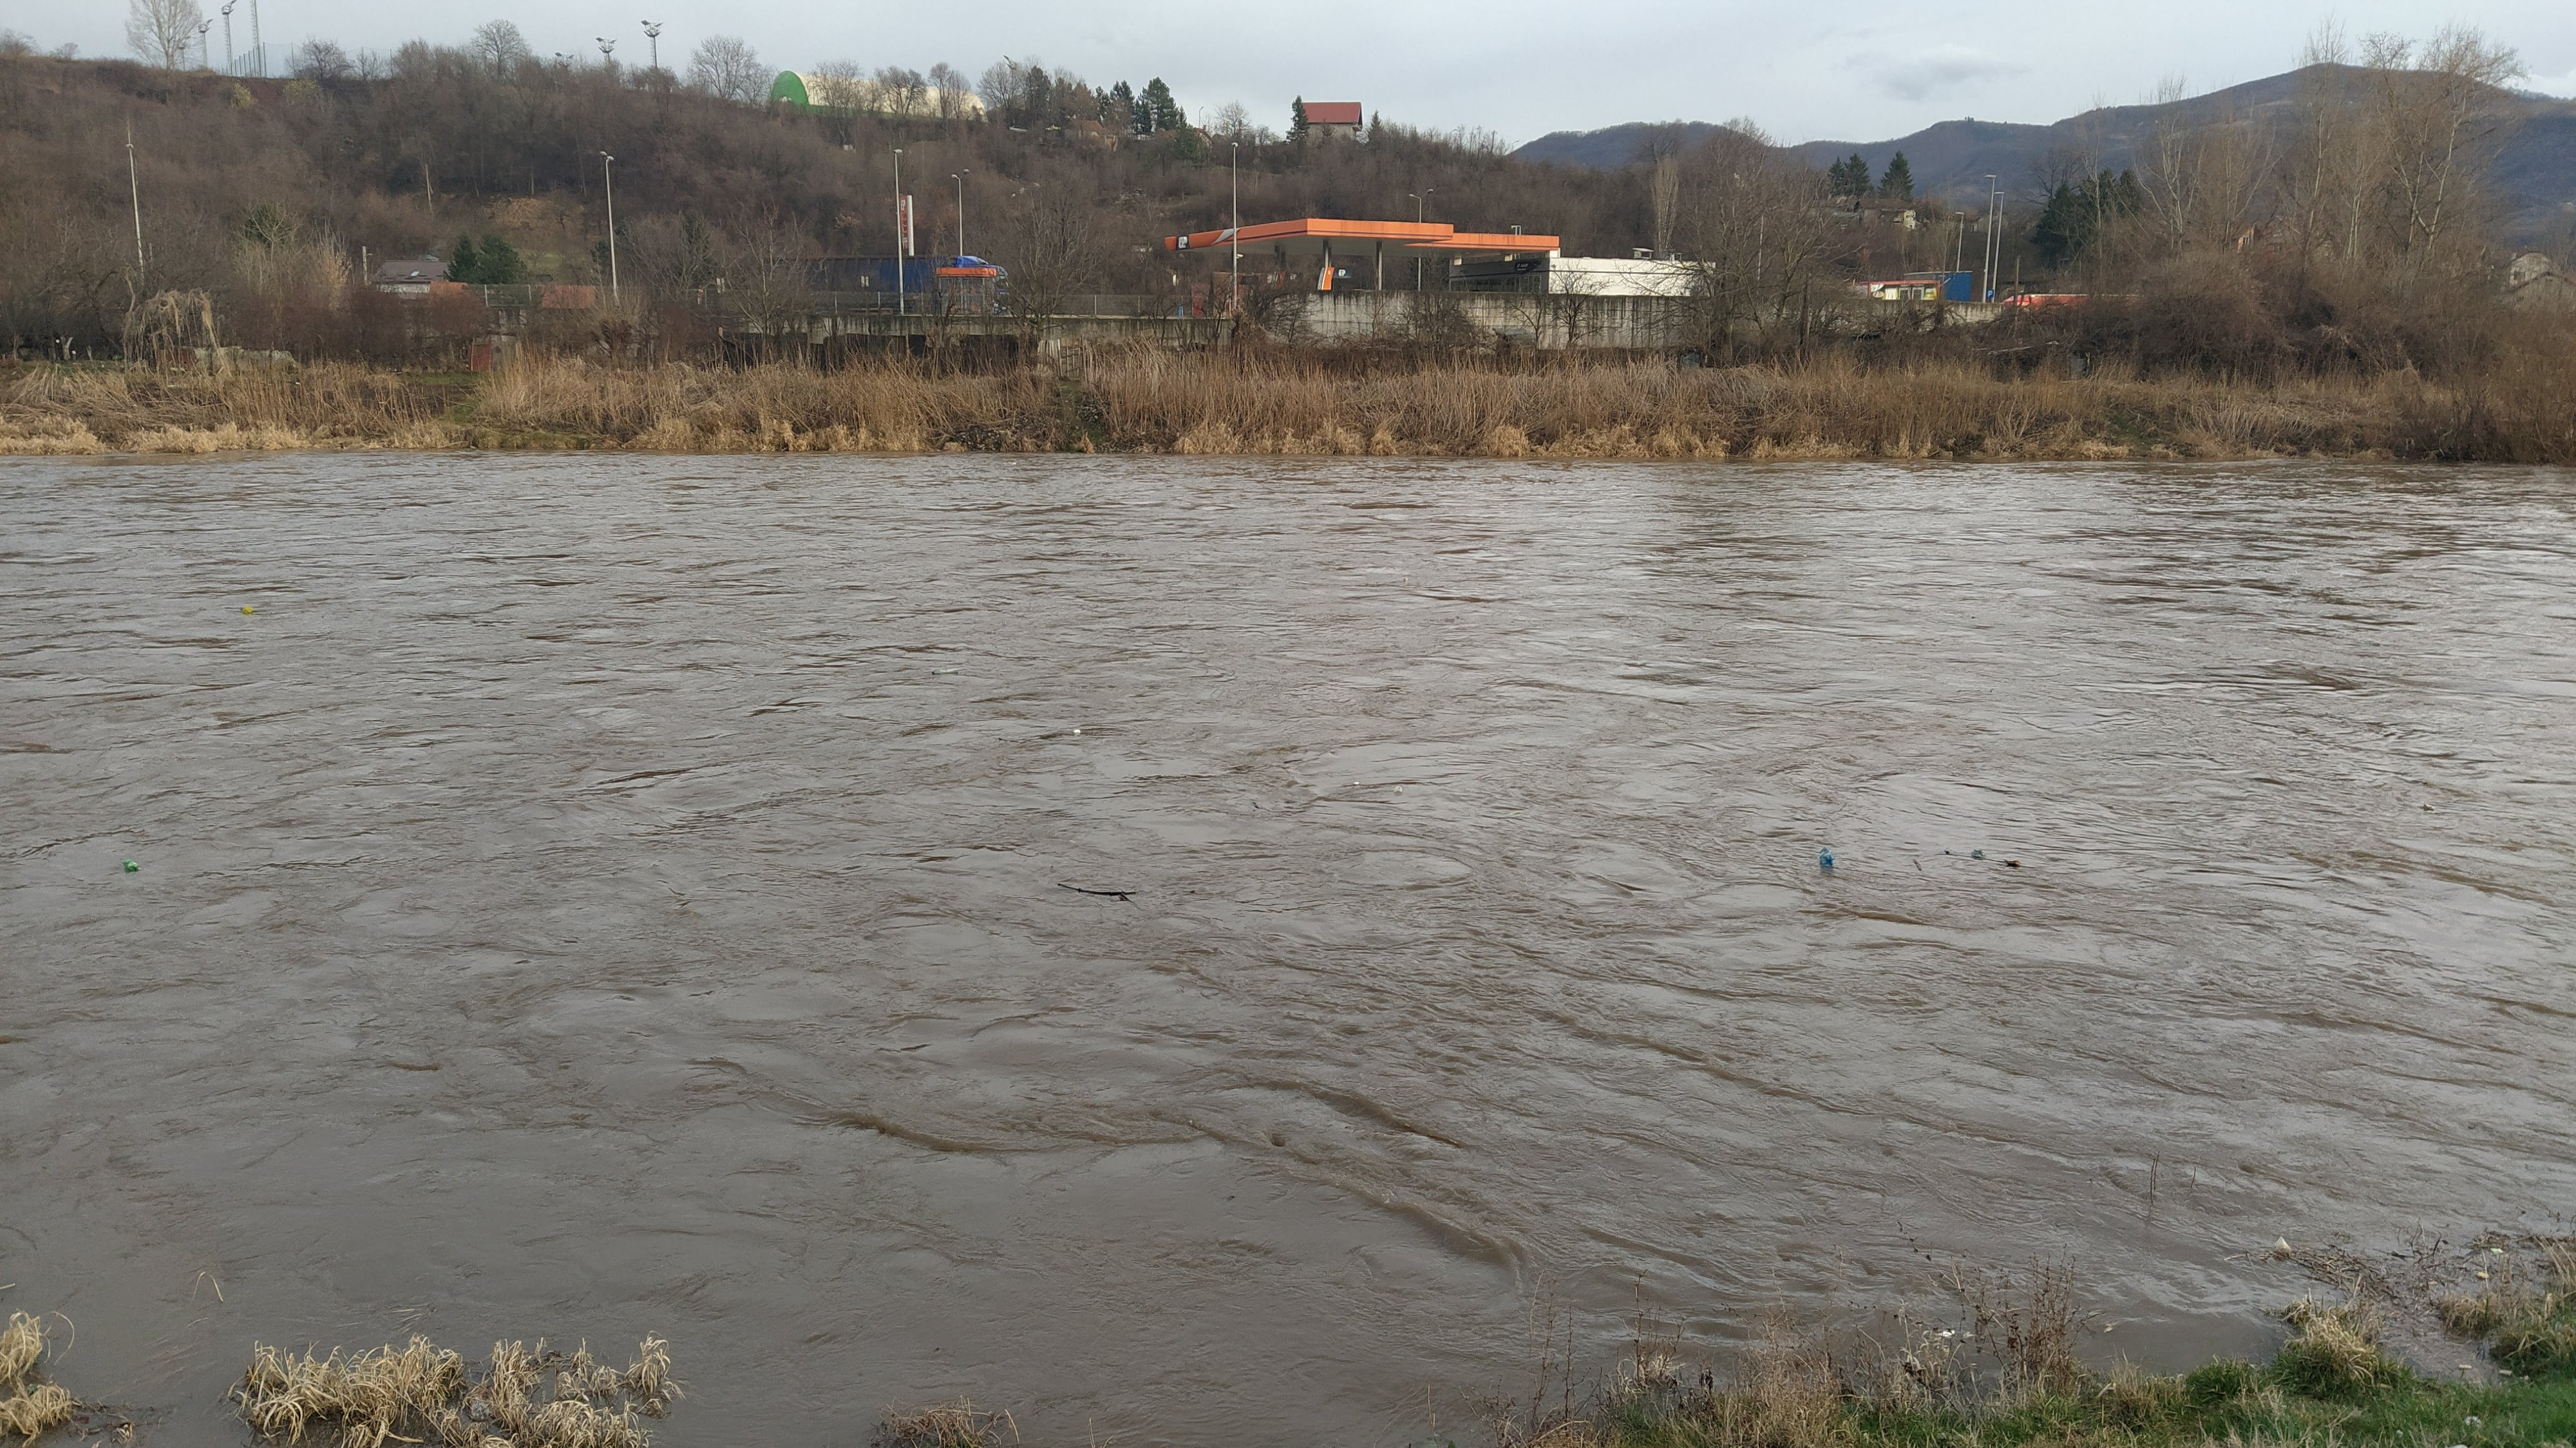Plastic Bottle: (1819, 848, 1835, 866), (2273, 1236, 2289, 1253), (931, 666, 957, 674), (122, 859, 138, 871), (241, 605, 253, 612), (2006, 859, 2019, 866), (1973, 850, 1983, 857), (1394, 786, 1401, 793)
